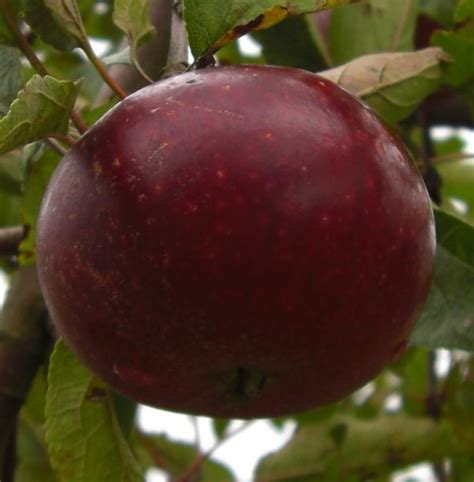apple: (30, 60, 440, 421)
